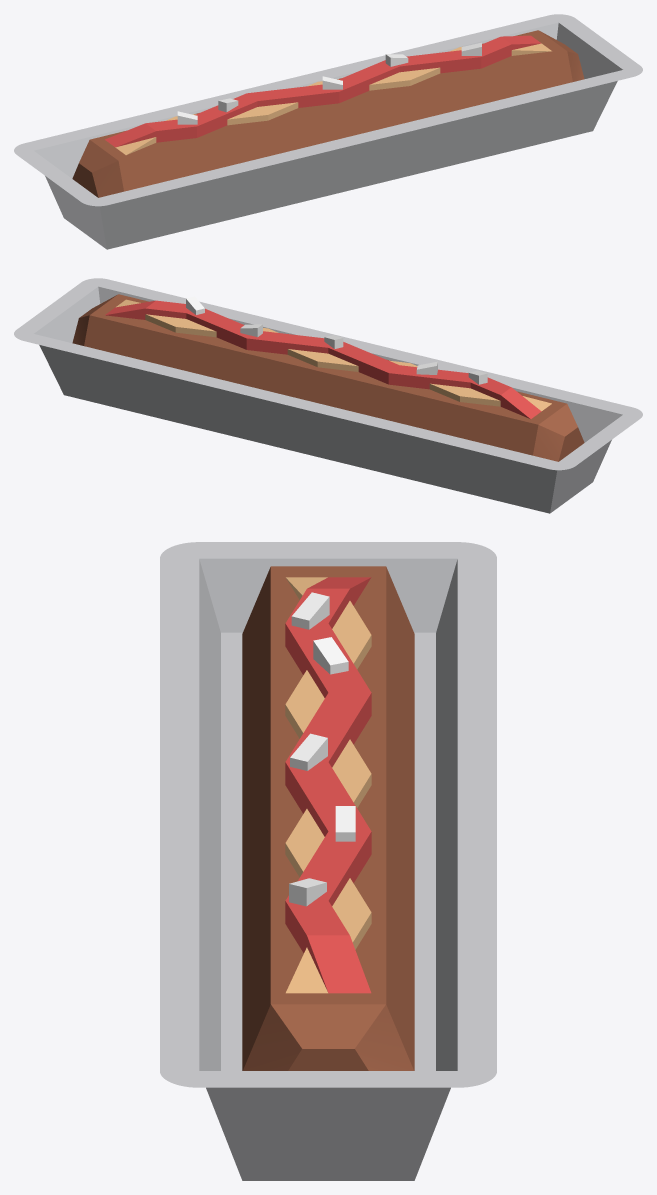
File: frikandelSpeciaal.fbx
3 views of the same model, one above another, from view 1: azimuth 30°, elevation 25°; view 2: azimuth 150°, elevation 25°; view 3: azimuth 270°, elevation 25° (orthographic). The views are drawn at different scales.
Visible parts, largest first — view 1: frikandelSpeciaal, frikandel, sauceOnions; view 2: frikandelSpeciaal, frikandel, sauceOnions; view 3: frikandelSpeciaal, frikandel, sauceOnions.
Boxes of the visible parts, bbox=[...] form: frikandelSpeciaal: bbox=[14, 14, 642, 249]; frikandel: bbox=[72, 30, 584, 197]; sauceOnions: bbox=[105, 35, 551, 155]; frikandelSpeciaal: bbox=[14, 278, 642, 513]; frikandel: bbox=[72, 294, 584, 461]; sauceOnions: bbox=[105, 296, 551, 419]; frikandelSpeciaal: bbox=[160, 542, 496, 1180]; frikandel: bbox=[242, 566, 414, 1070]; sauceOnions: bbox=[285, 577, 371, 993].
Bounding box in the file's own units: 6.36 × 1.09 × 1.66.
